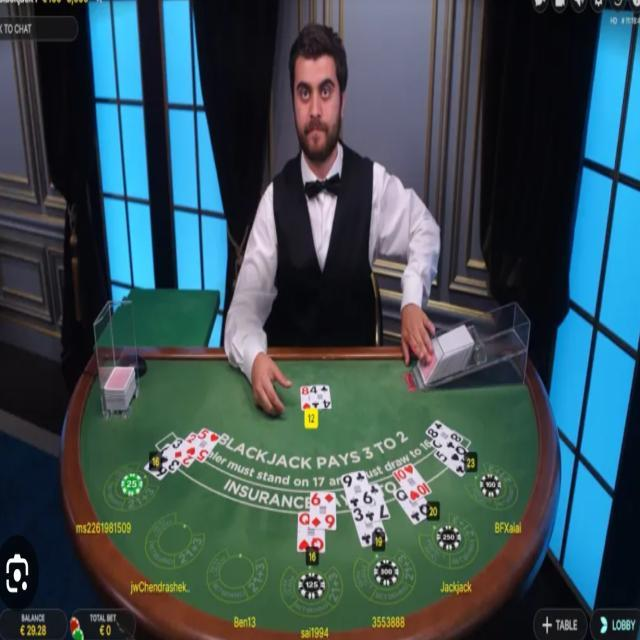Card-10: (393, 463, 432, 501)
Card-2: (173, 432, 197, 468)
Card-3: (351, 506, 387, 547), (162, 438, 185, 474)
Card-4: (310, 385, 332, 409)
Card-5: (186, 428, 222, 463), (434, 450, 473, 478)
Card-6: (310, 492, 336, 530), (144, 446, 169, 480)
Card-7: (361, 483, 390, 523)
Card-8: (425, 419, 464, 452), (301, 386, 311, 409)
Card-9: (341, 471, 374, 509)
Card-Q: (393, 487, 433, 525), (297, 513, 325, 553), (430, 439, 469, 464)
